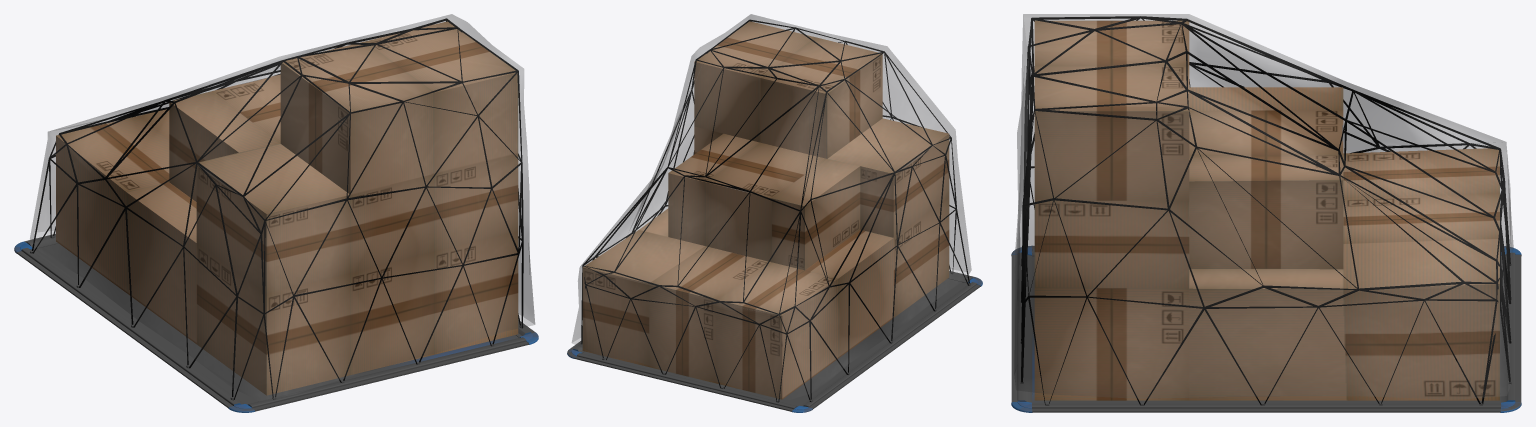
The model's file is PMCPallet (1).fbx.
3 views of the same model, side by side, from view 1: azimuth 30°, elevation 25°; view 2: azimuth 150°, elevation 25°; view 3: azimuth 270°, elevation 25° (orthographic). The views are drawn at different scales.
Parts seen in each view (by area): view 1: PlasticWrap, Boxes, Net, PMC; view 2: PlasticWrap, Boxes, Net, PMC; view 3: PlasticWrap, Boxes, Net, PMC.
Boxes of the visible parts, left/top/right/bottom form: PlasticWrap: left=30, top=14, right=534, bottom=400; Boxes: left=56, top=21, right=518, bottom=395; Net: left=32, top=18, right=523, bottom=400; PMC: left=14, top=233, right=538, bottom=412; PlasticWrap: left=572, top=14, right=971, bottom=399; Boxes: left=582, top=21, right=949, bottom=399; Net: left=581, top=19, right=969, bottom=402; PMC: left=567, top=271, right=982, bottom=412; PlasticWrap: left=1014, top=14, right=1513, bottom=399; Boxes: left=1034, top=20, right=1499, bottom=400; Net: left=1021, top=16, right=1511, bottom=405; PMC: left=1011, top=245, right=1521, bottom=412.
Bounding box in the file's own units: 244 × 209 × 318.
Materials: 2 (2 with a texture image).
